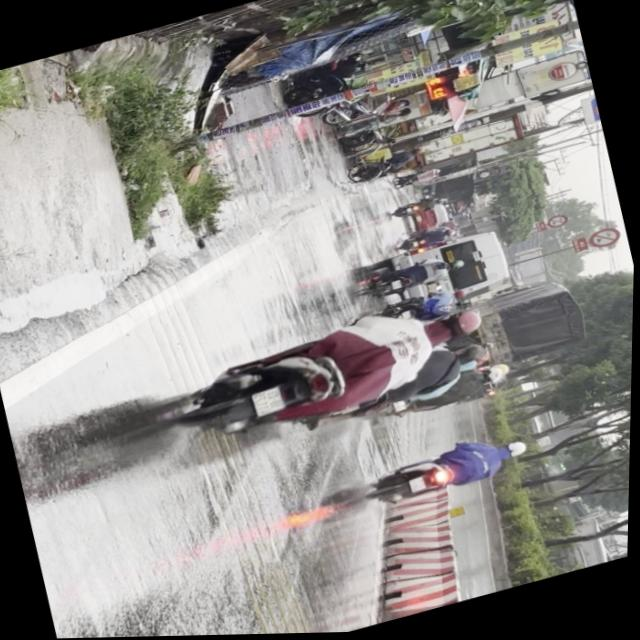helmet: (430, 307, 488, 348), (503, 442, 532, 464)
licenseplate: (147, 287, 505, 469), (355, 430, 536, 518)
motorcyclist: (453, 342, 488, 368)
nohelmet: (254, 388, 288, 418), (411, 478, 430, 495)
